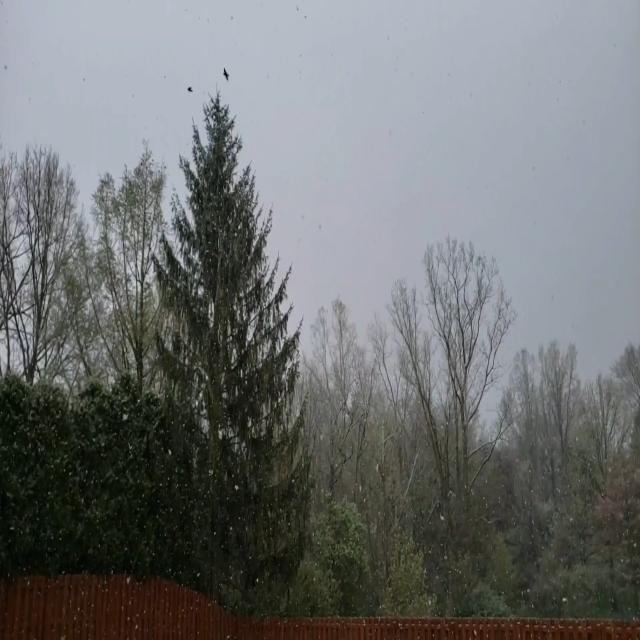bird: (222, 67, 230, 83), (186, 85, 194, 93)
